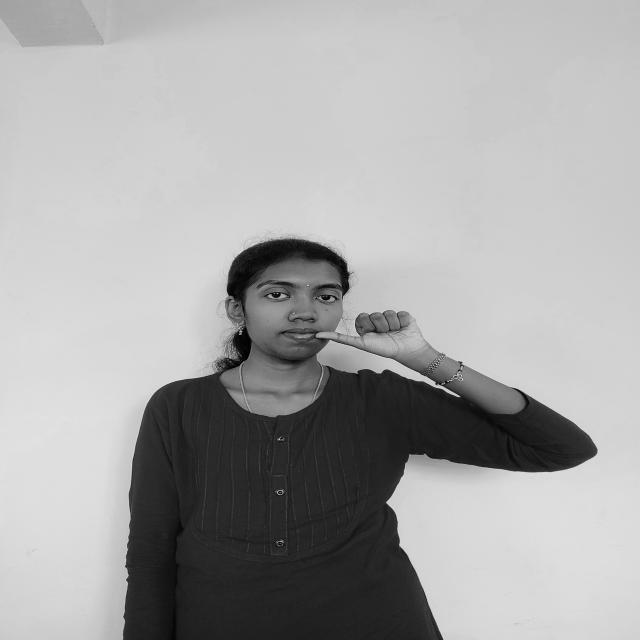Drink: (310, 306, 438, 366)
